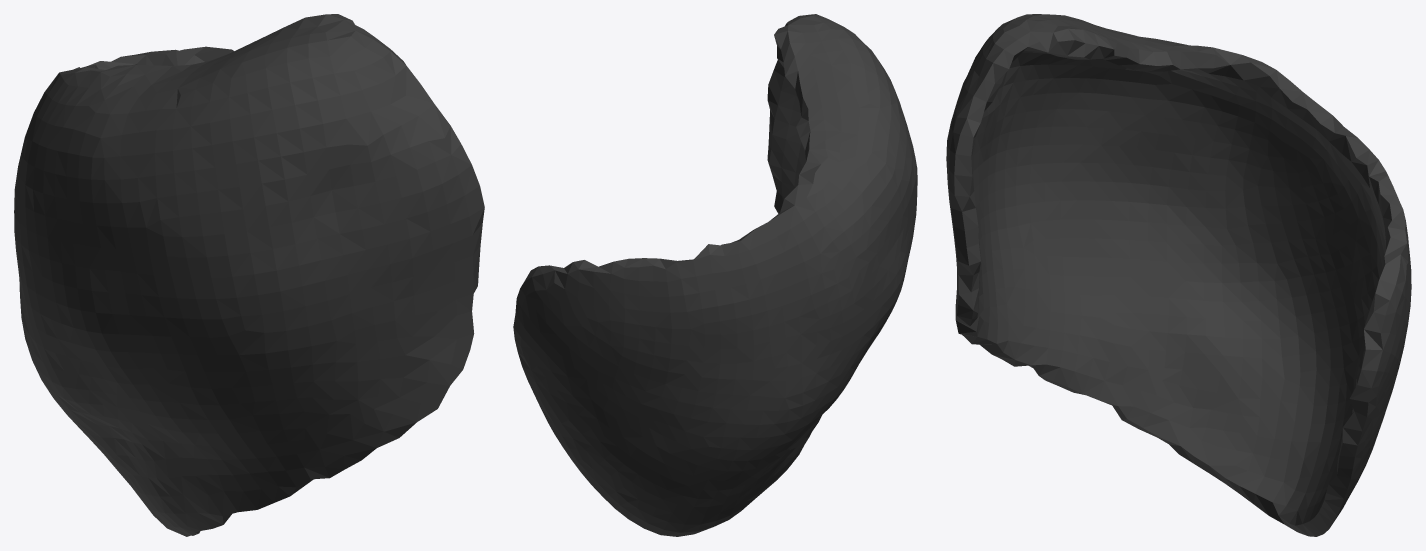
The model's file is VENTRICLE_R.glb.
3 renders of one model, left to right at view 1: azimuth 30°, elevation 25°; view 2: azimuth 150°, elevation 25°; view 3: azimuth 270°, elevation 25°, orthographic. The views are drawn at different scales.
Parts seen in each view (by area): view 1: VENTRICLE_R; view 2: VENTRICLE_R; view 3: VENTRICLE_R.
Part boxes in pixels (box(x1,y1,x2,y2)): VENTRICLE_R: box(14, 14, 484, 536); VENTRICLE_R: box(513, 14, 917, 536); VENTRICLE_R: box(946, 14, 1411, 536).
Bounding box in the file's own units: 57.68 × 83.98 × 70.96.
Materials: 1 (1 with a texture image).
